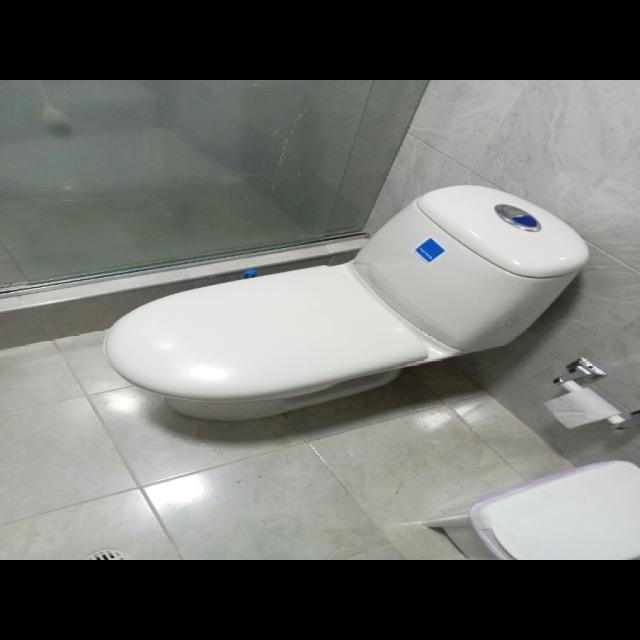toilet: (102, 184, 589, 422)
